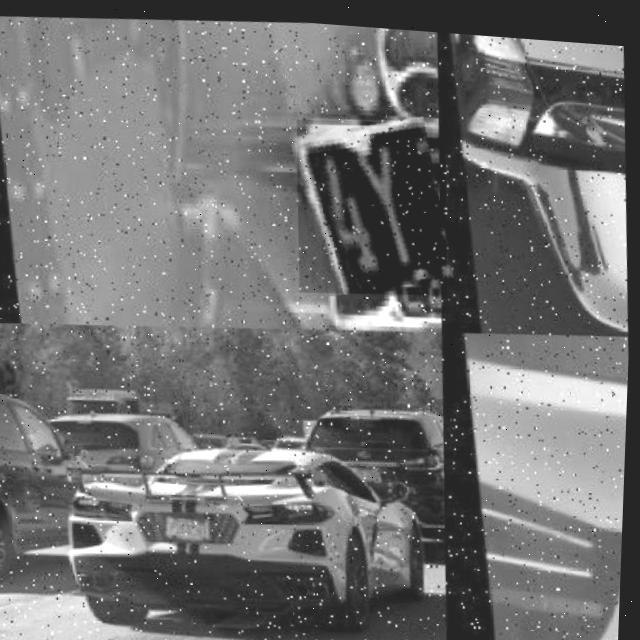LicensePlate: (292, 107, 454, 296), (160, 509, 208, 541)
